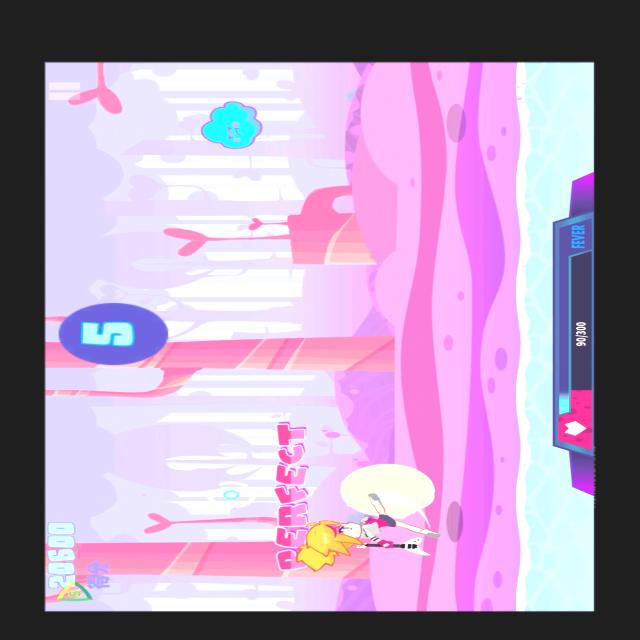Sky-Monster---Blue-Bullet: (195, 94, 272, 150)
